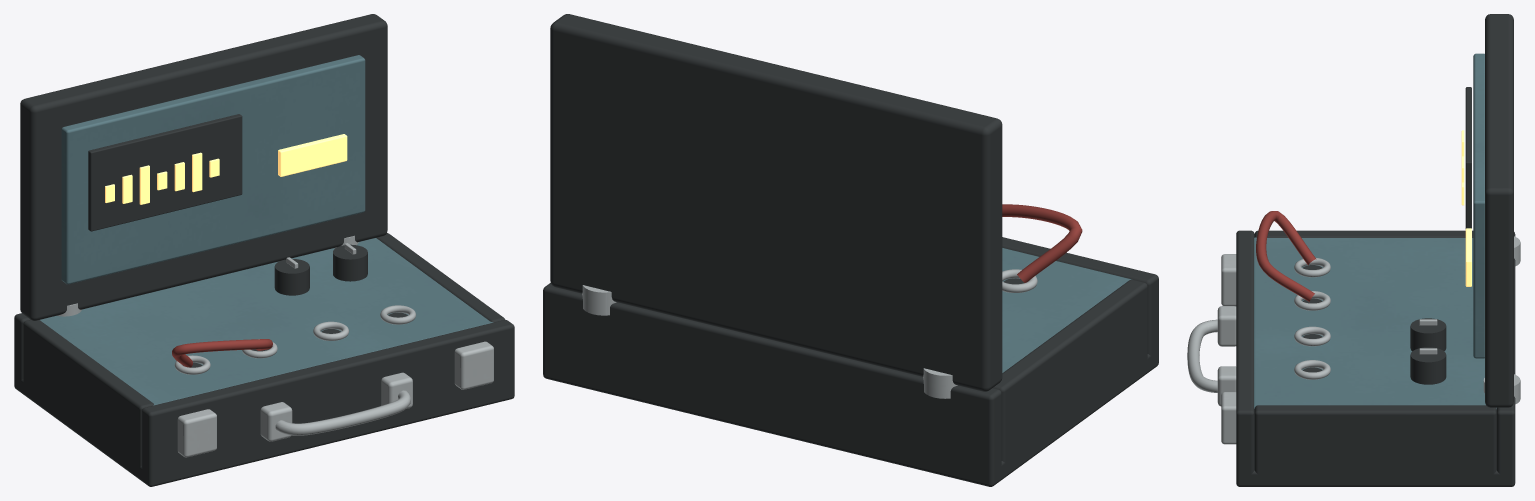
Rendered from gorgehold-survivor-gallery-and-operations-portable-bat-1b01c1ca__32855.glb.
3 views of the same model, side by side, from view 1: azimuth 30°, elevation 25°; view 2: azimuth 150°, elevation 25°; view 3: azimuth 270°, elevation 25° (orthographic). The views are drawn at different scales.
Visible parts, largest first — view 1: portable-battery-diagnostics-suitcase; view 2: portable-battery-diagnostics-suitcase; view 3: portable-battery-diagnostics-suitcase.
Part boxes in pixels (bbox=[...]): portable-battery-diagnostics-suitcase: bbox=[14, 14, 514, 486]; portable-battery-diagnostics-suitcase: bbox=[543, 14, 1158, 486]; portable-battery-diagnostics-suitcase: bbox=[1187, 14, 1520, 486].
Size of the model in its own units: 0.82 by 0.62 by 0.6326.
5 materials, 2 textured.
